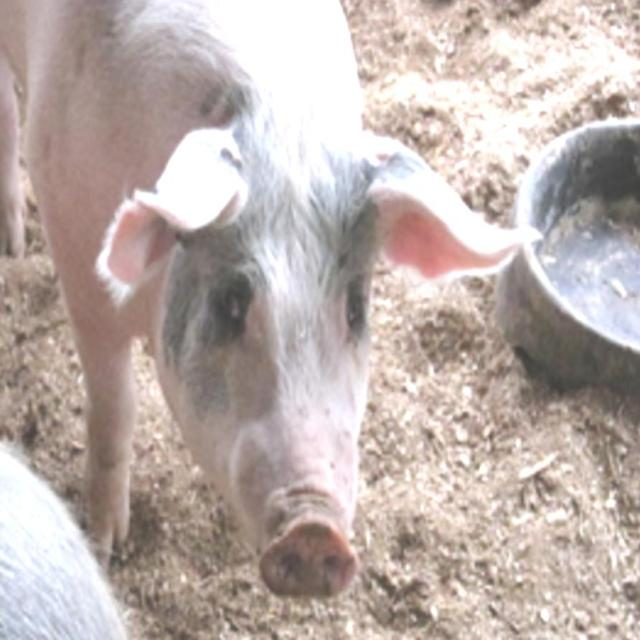pig: (0, 2, 532, 595)
